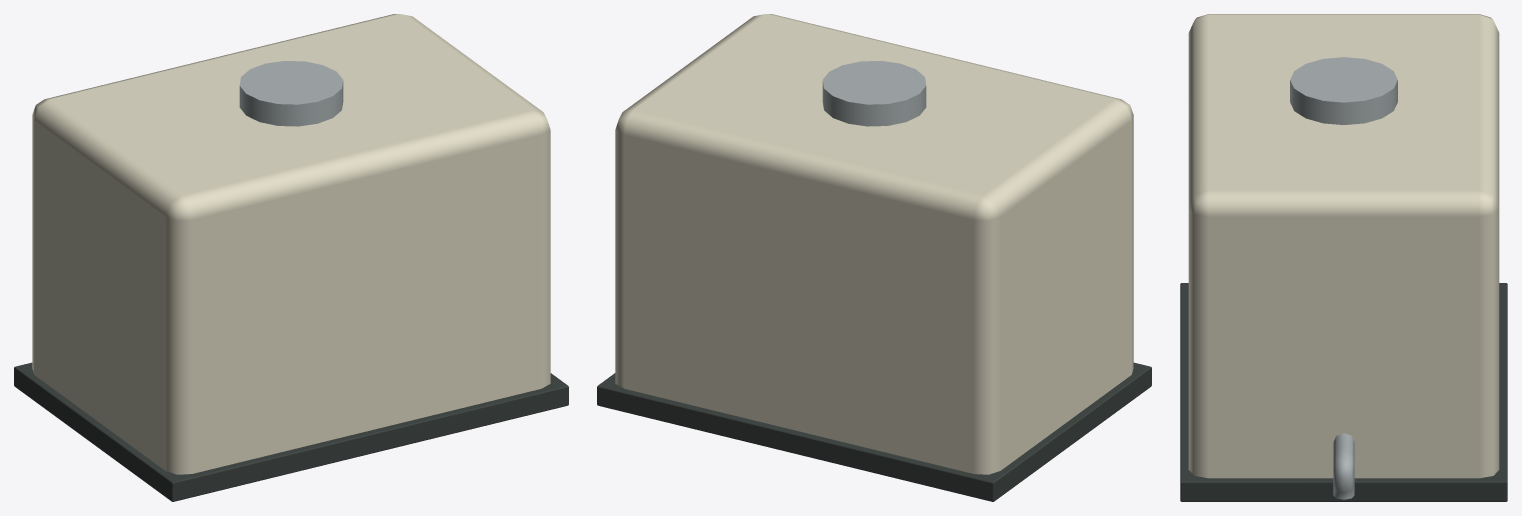
The model's file is water-collection-and-purification-rectangular-cistern-21f826ee__20182.glb.
3 renders of one model, left to right at view 1: azimuth 30°, elevation 25°; view 2: azimuth 150°, elevation 25°; view 3: azimuth 270°, elevation 25°, orthographic. The views are drawn at different scales.
Parts seen in each view (by area): view 1: rectangular-cistern; view 2: rectangular-cistern; view 3: rectangular-cistern.
Boxes of the visible parts, x1,y1,x2,y2 form: rectangular-cistern: (14, 14, 568, 501); rectangular-cistern: (597, 14, 1151, 501); rectangular-cistern: (1180, 14, 1507, 501).
Bounding box in the file's own units: 1.31 × 0.86 × 0.79.
